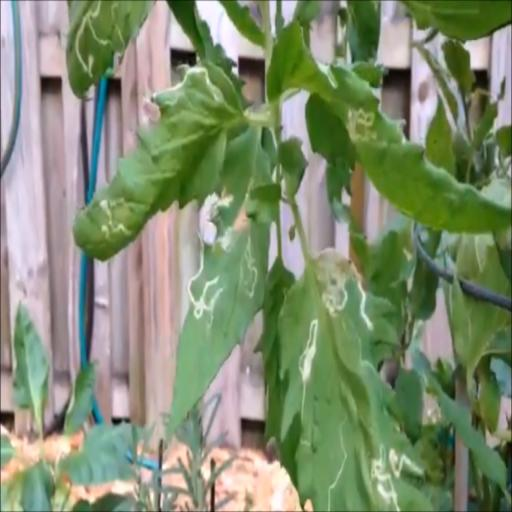Leaf_Miner: (279, 245, 436, 512), (74, 49, 244, 264), (318, 58, 512, 238), (170, 211, 272, 444), (65, 0, 154, 101)
